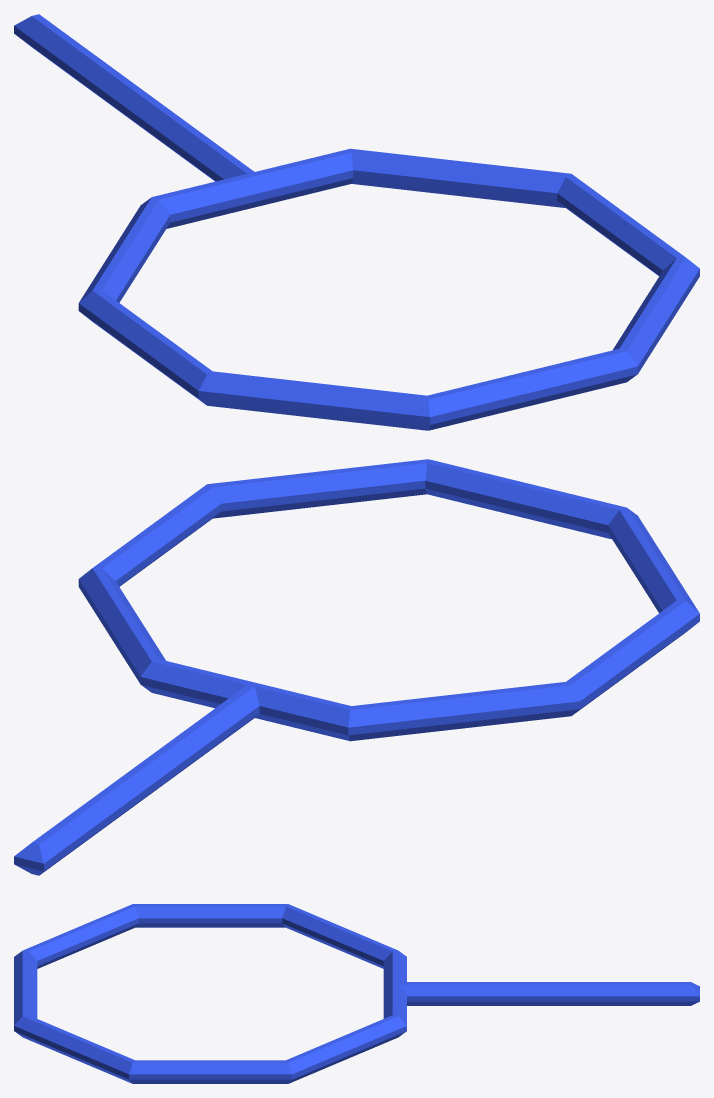
Rendered from hoop.obj.
3 renders of one model, top to bottom at view 1: azimuth 30°, elevation 25°; view 2: azimuth 150°, elevation 25°; view 3: azimuth 270°, elevation 25°, orthographic. The views are drawn at different scales.
Visible parts, largest first — view 1: mesh57, mesh51, mesh56, mesh54, mesh21, mesh22, mesh61, mesh19, mesh48, mesh53, mesh23, mesh47 (+10 smaller); view 2: mesh57, mesh51, mesh60, mesh17, mesh14, mesh61, mesh19, mesh36, mesh58, mesh9, mesh44, mesh13 (+11 smaller); view 3: mesh57, mesh39, mesh42, mesh8, mesh32, mesh36, mesh48, mesh23, mesh9, mesh27, mesh35, mesh1 (+13 smaller).
Boxes of the visible parts, x1,y1,x2,y2 form: mesh57: (32,14,685,399); mesh51: (14,16,246,179); mesh56: (198,374,429,416); mesh54: (428,351,637,416); mesh21: (351,152,565,193); mesh22: (159,153,353,214); mesh61: (79,291,206,390); mesh19: (557,177,676,270); mesh48: (627,258,699,365); mesh53: (198,391,430,424); mesh23: (102,200,169,300); mesh47: (430,366,637,424); mesh57: (32,459,685,844); mesh51: (39,687,259,863); mesh60: (348,685,579,727); mesh17: (213,463,426,503); mesh14: (425,463,618,524); mesh61: (572,601,699,700); mesh19: (102,487,220,580); mesh36: (79,568,151,676); mesh58: (348,701,579,735); mesh9: (608,510,676,610); mesh44: (44,706,259,870); mesh13: (221,480,425,511); mesh57: (22,904,691,1062); mesh39: (399,984,699,996); mesh42: (129,1062,291,1074); mesh8: (135,906,285,918); mesh32: (407,996,699,1001); mesh36: (288,1016,406,1074); mesh48: (14,1016,132,1073); mesh23: (282,906,392,960); mesh9: (29,906,138,960); mesh27: (407,1001,699,1005); mesh35: (129,1074,291,1079); mesh1: (139,918,282,923).
Bounding box in the file's own units: 3.36 × 0.2 × 5.86.
